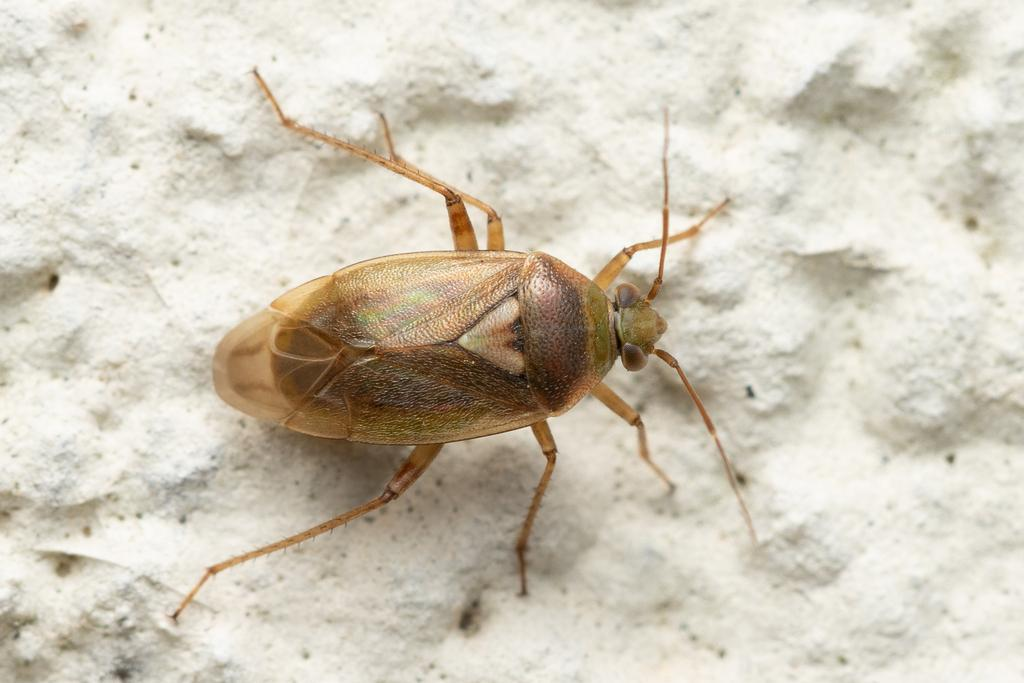plant_bugs: (92, 21, 833, 683)
